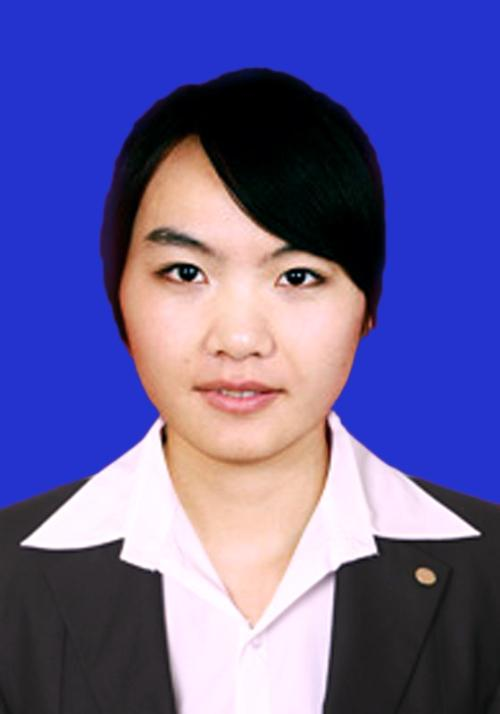unmask: (122, 175, 375, 446)
